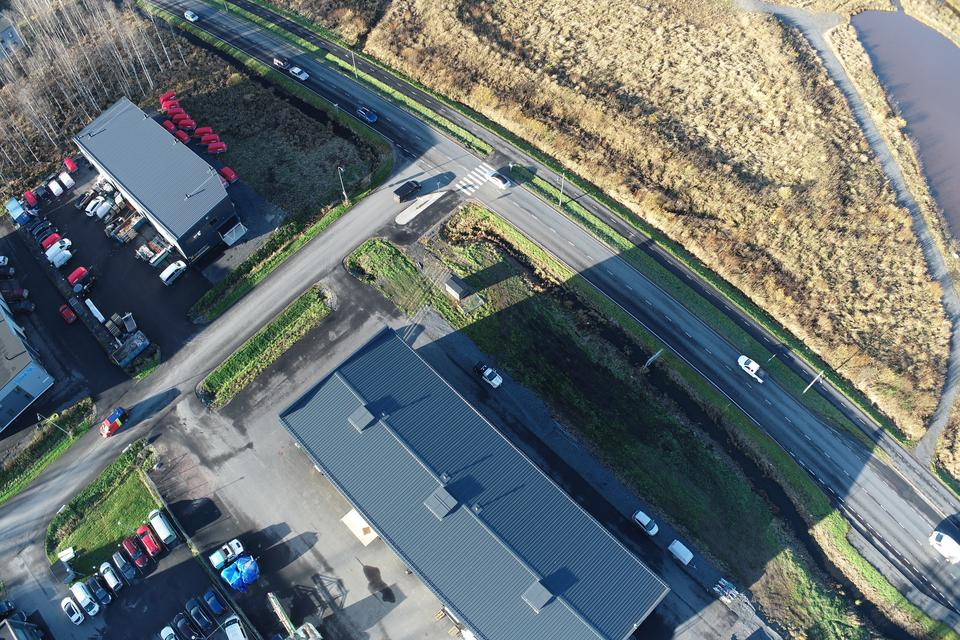intersection: (765, 424, 960, 561), (358, 125, 534, 262)
